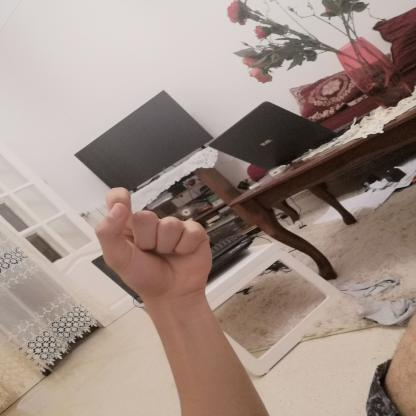FAA: (84, 174, 232, 306)
